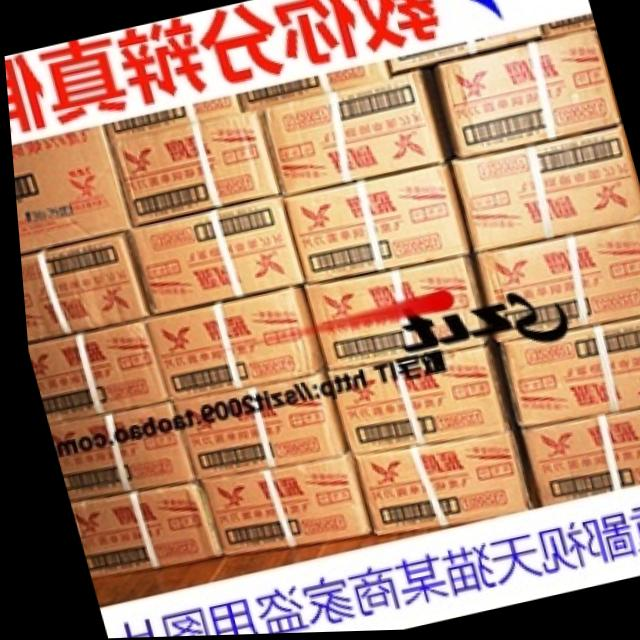box: (447, 130, 640, 255), (433, 32, 620, 161), (259, 71, 444, 198), (280, 166, 468, 286), (301, 258, 489, 372), (122, 198, 300, 316), (468, 224, 640, 345), (142, 286, 320, 402), (106, 110, 278, 227), (323, 346, 503, 455), (167, 370, 341, 480), (192, 451, 365, 559), (347, 435, 524, 538), (492, 321, 640, 431), (42, 400, 187, 502), (62, 482, 214, 579), (22, 319, 162, 423), (16, 233, 145, 343), (512, 410, 640, 509), (11, 153, 127, 254)
